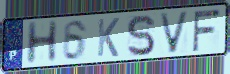6: (62, 19, 89, 61)
F: (191, 7, 222, 53)
H: (24, 18, 60, 66)
K: (96, 16, 121, 58)
S: (125, 14, 157, 59)
V: (157, 10, 191, 55)
